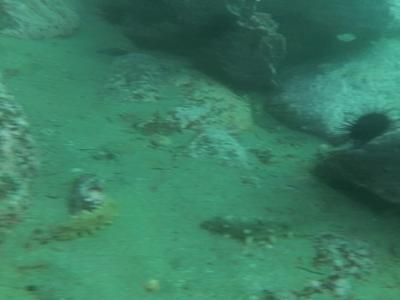holothurian: (50, 202, 118, 241), (199, 215, 288, 244)
urchin: (341, 107, 392, 146)
